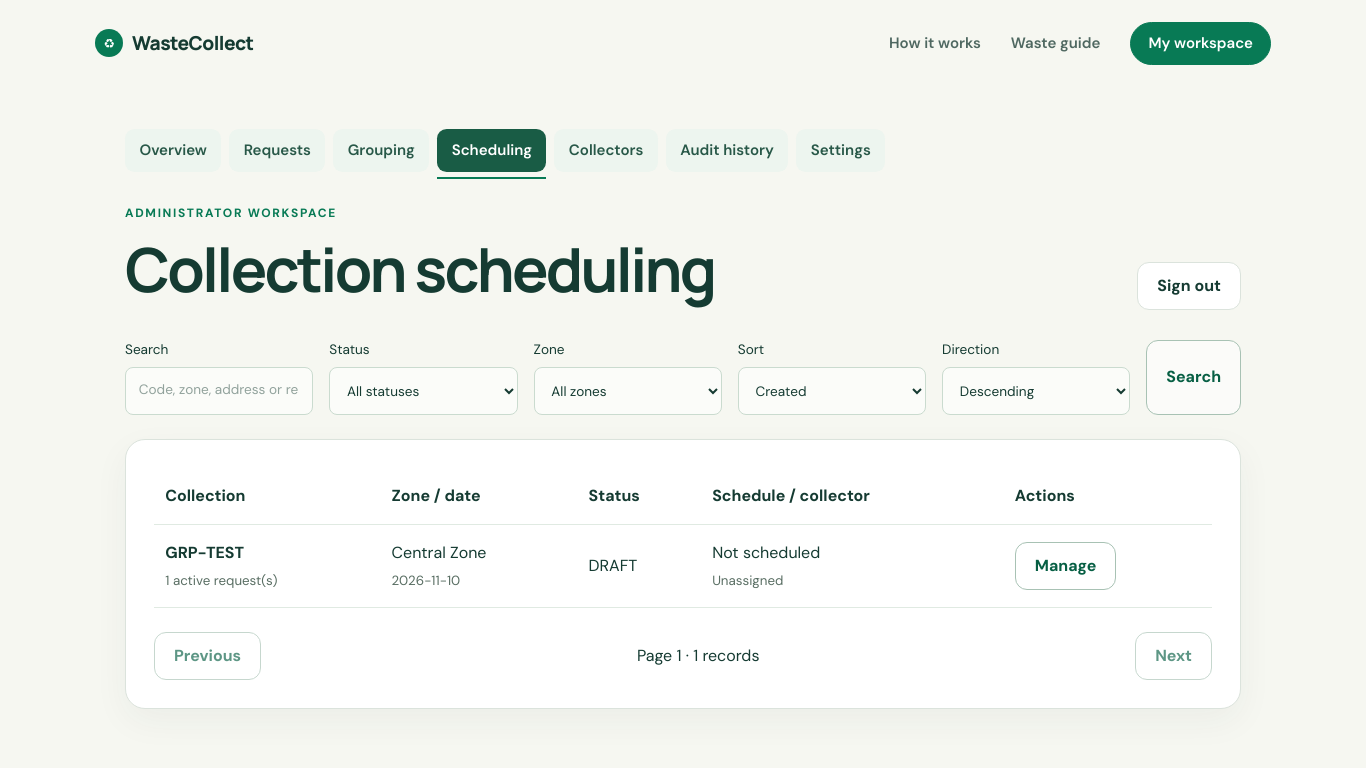
saves a collection window and loads its updated scheduled state
Click the button "Manage". click: (1066, 566)
box: [1015, 542, 1116, 590]
(page scrolled)
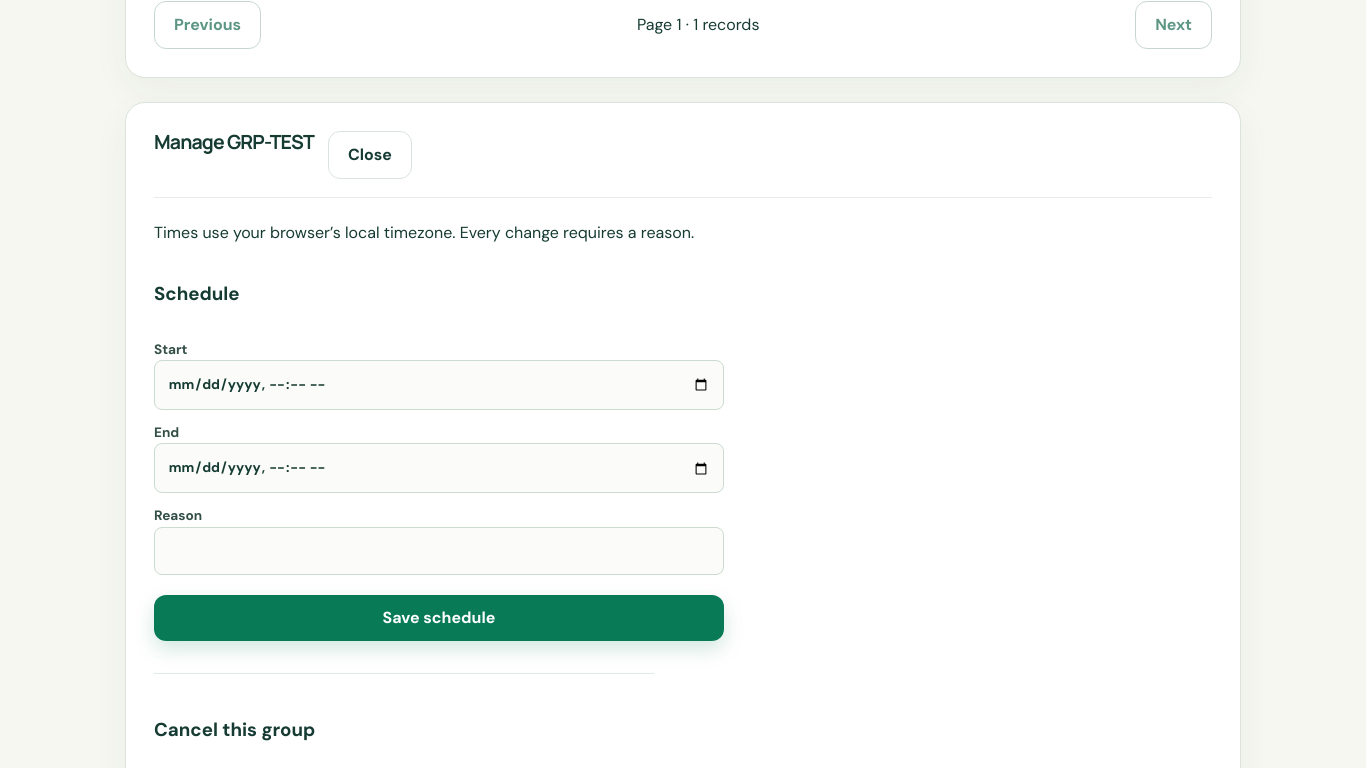
Type "2026-11-10T09:00" into the field labelled "Start". click: (439, 385)
box: [154, 360, 724, 410]
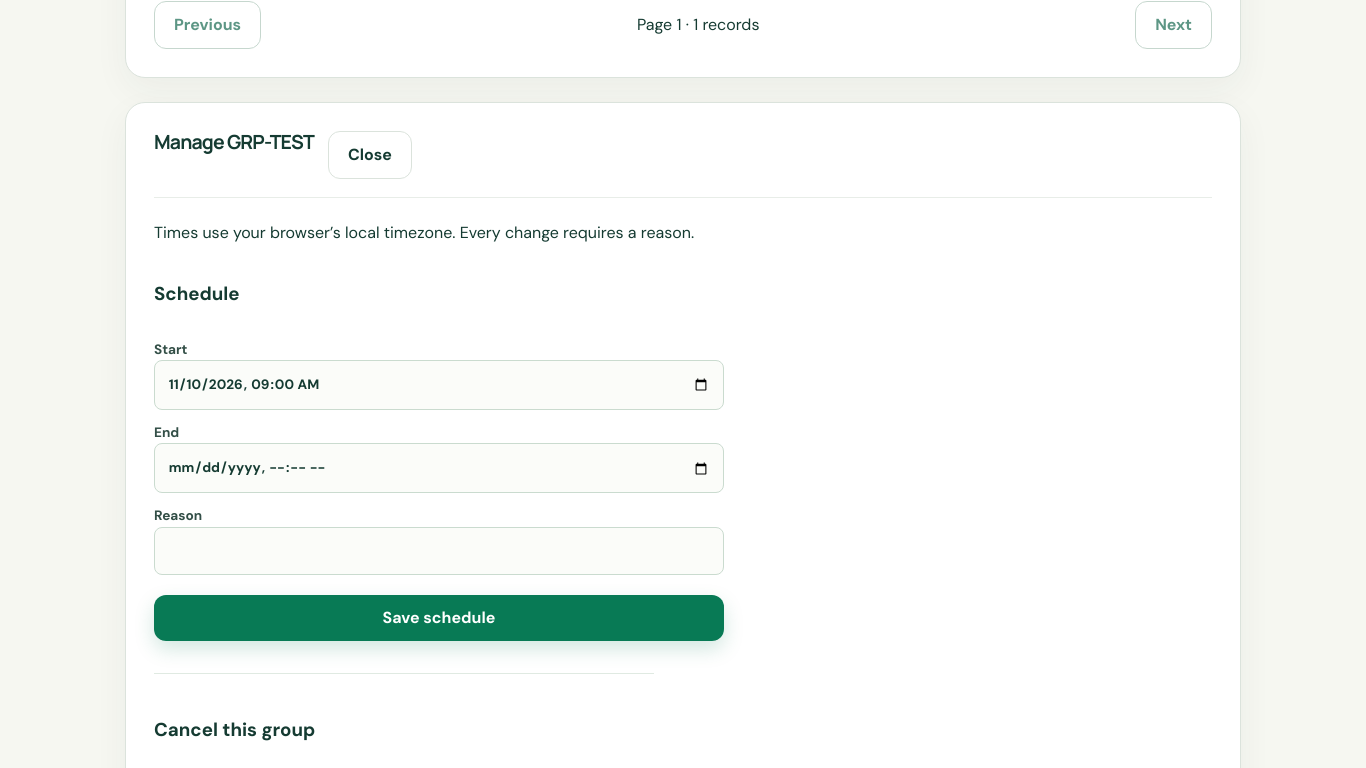
Type "2026-11-10T10:00" into the field labelled "End". click: (439, 468)
box: [154, 443, 724, 493]
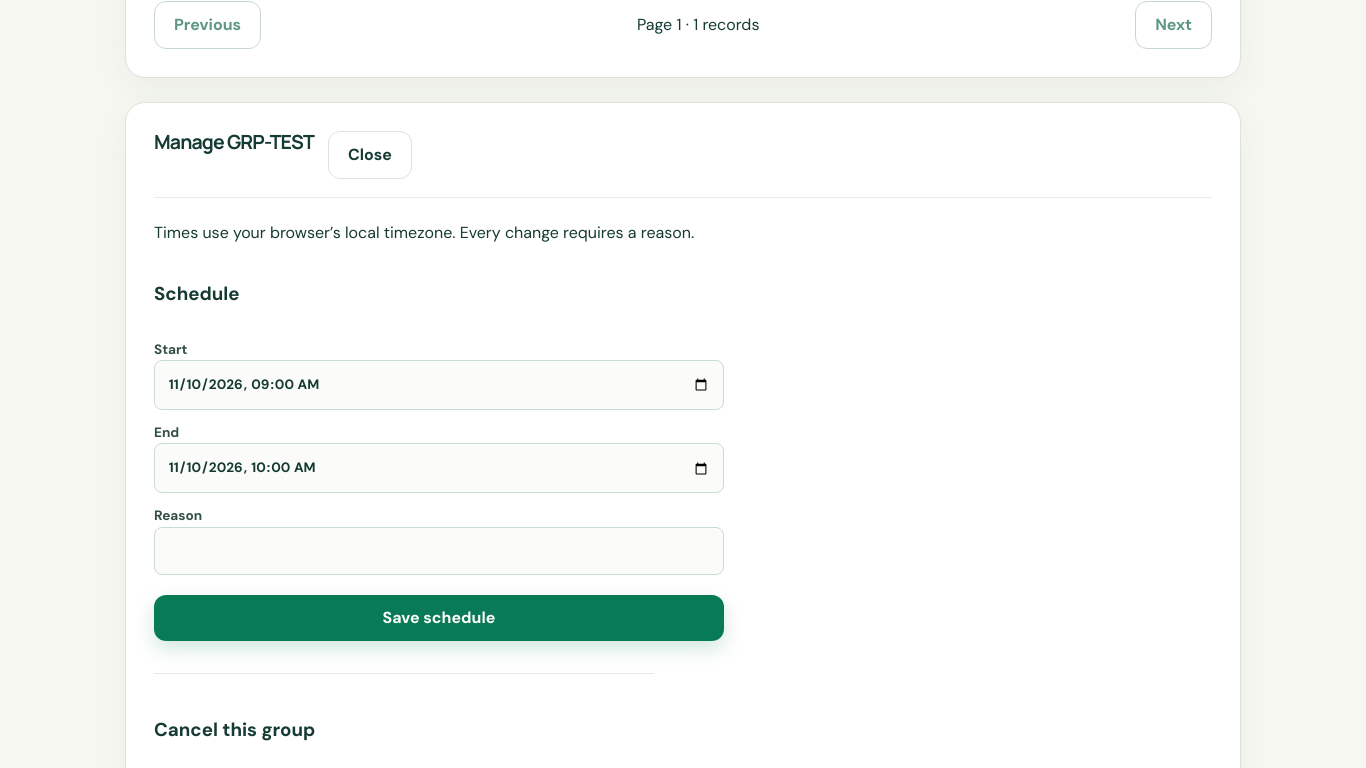
Type "Morning collection" into the field labelled "Reason". click: (439, 551)
box: [154, 527, 724, 575]
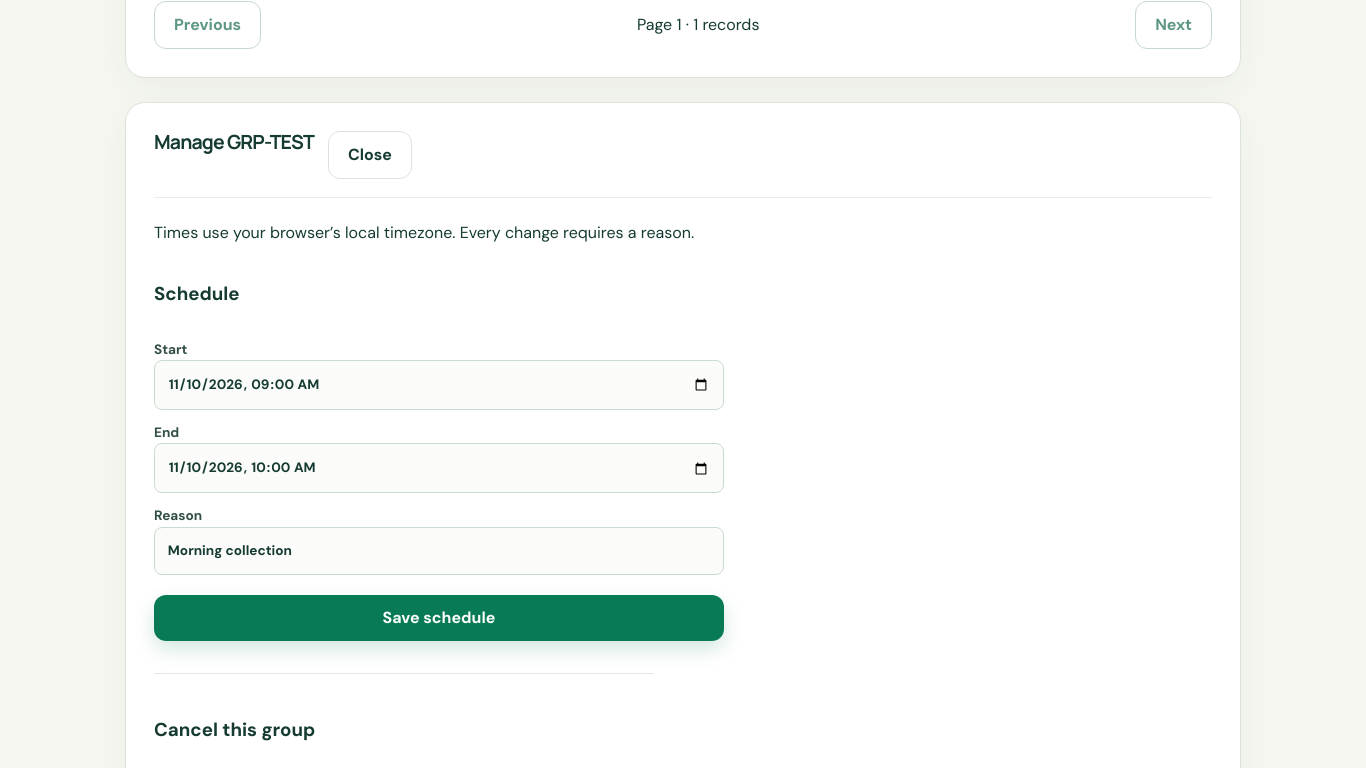
Submit the form "Schedule", box [154, 261, 724, 641]
(page scrolled)
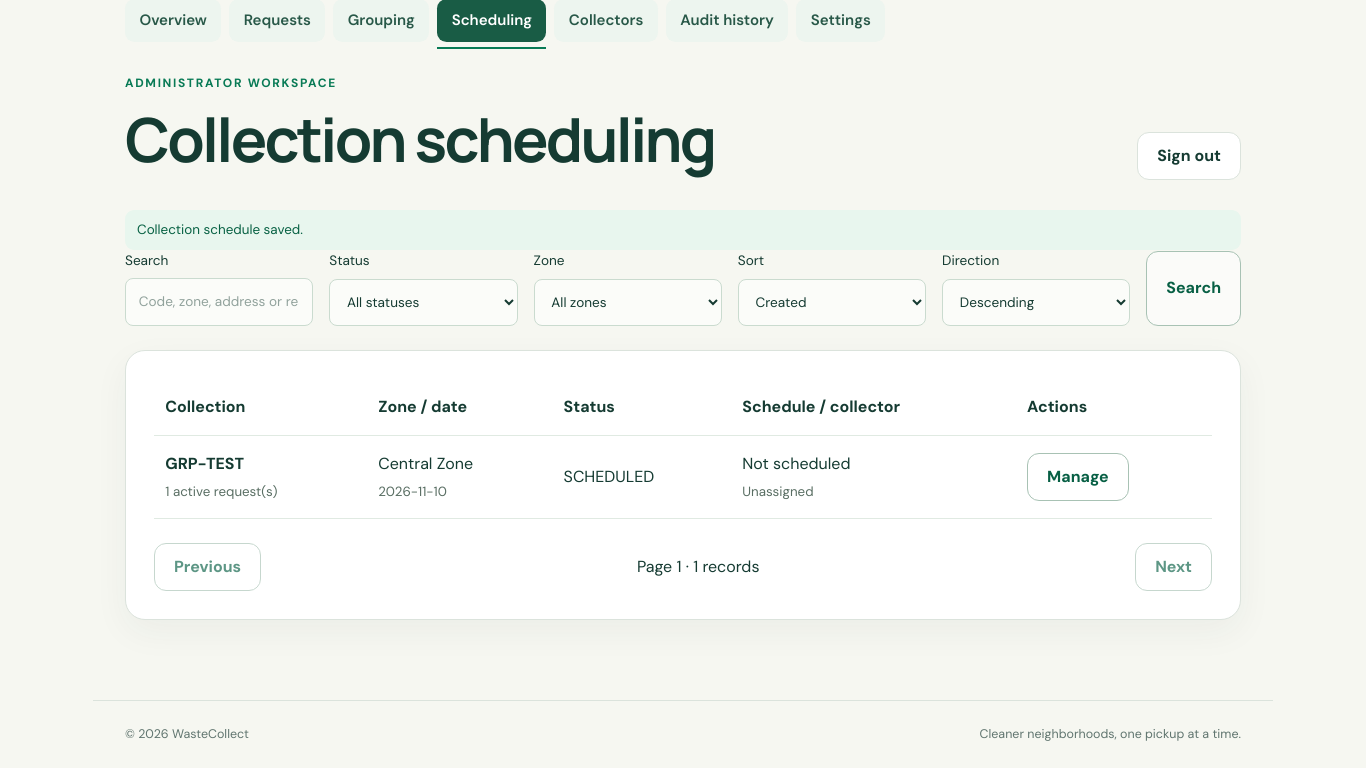
Expected: the text "Collection schedule saved." is shown, [125, 210, 1241, 250]
Expected: the text "SCHEDULED" is shown, [564, 466, 654, 487]
